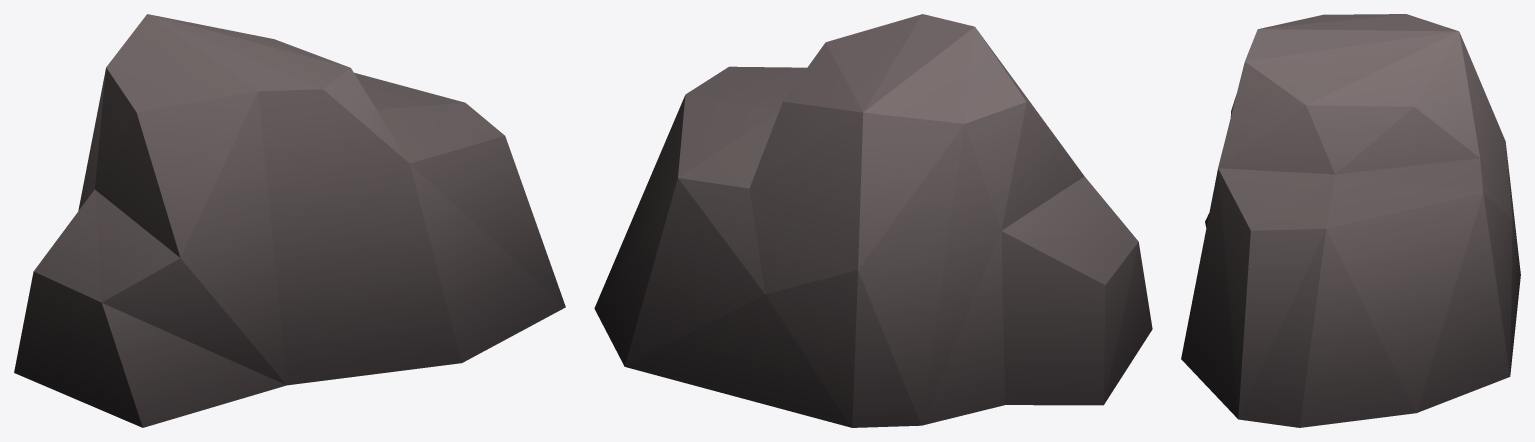
The model's file is SM_Rock_base_2.fbx.
3 views of the same model, side by side, from view 1: azimuth 30°, elevation 25°; view 2: azimuth 150°, elevation 25°; view 3: azimuth 270°, elevation 25° (orthographic). The views are drawn at different scales.
Visible parts, largest first — view 1: Rock_base_2; view 2: Rock_base_2; view 3: Rock_base_2.
Boxes of the visible parts, box(x1,y1,x2,y2) form: Rock_base_2: box(14, 14, 565, 427); Rock_base_2: box(594, 14, 1152, 427); Rock_base_2: box(1181, 14, 1520, 427).
Bounding box in the file's own units: 463 × 248 × 297.
1 material, 1 textured.
